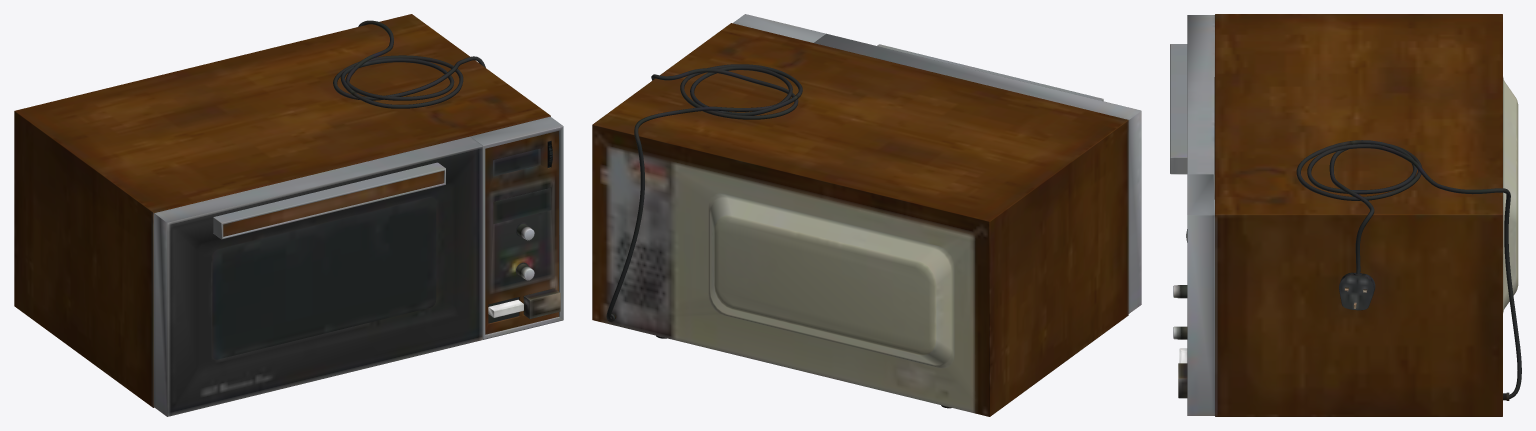
File: vintage_microwave.glb
3 renders of one model, left to right at view 1: azimuth 30°, elevation 25°; view 2: azimuth 150°, elevation 25°; view 3: azimuth 270°, elevation 25°, orthographic. The views are drawn at different scales.
Visible parts, largest first — view 1: vintage_microwave; view 2: vintage_microwave; view 3: vintage_microwave.
Boxes of the visible parts, x1=… form: vintage_microwave: x1=14, y1=14, x2=563, y2=416; vintage_microwave: x1=592, y1=14, x2=1141, y2=416; vintage_microwave: x1=1170, y1=14, x2=1521, y2=416.
Size of the model in its own units: 1.07 by 0.5257 by 0.7455.
2 materials, 2 textured.
